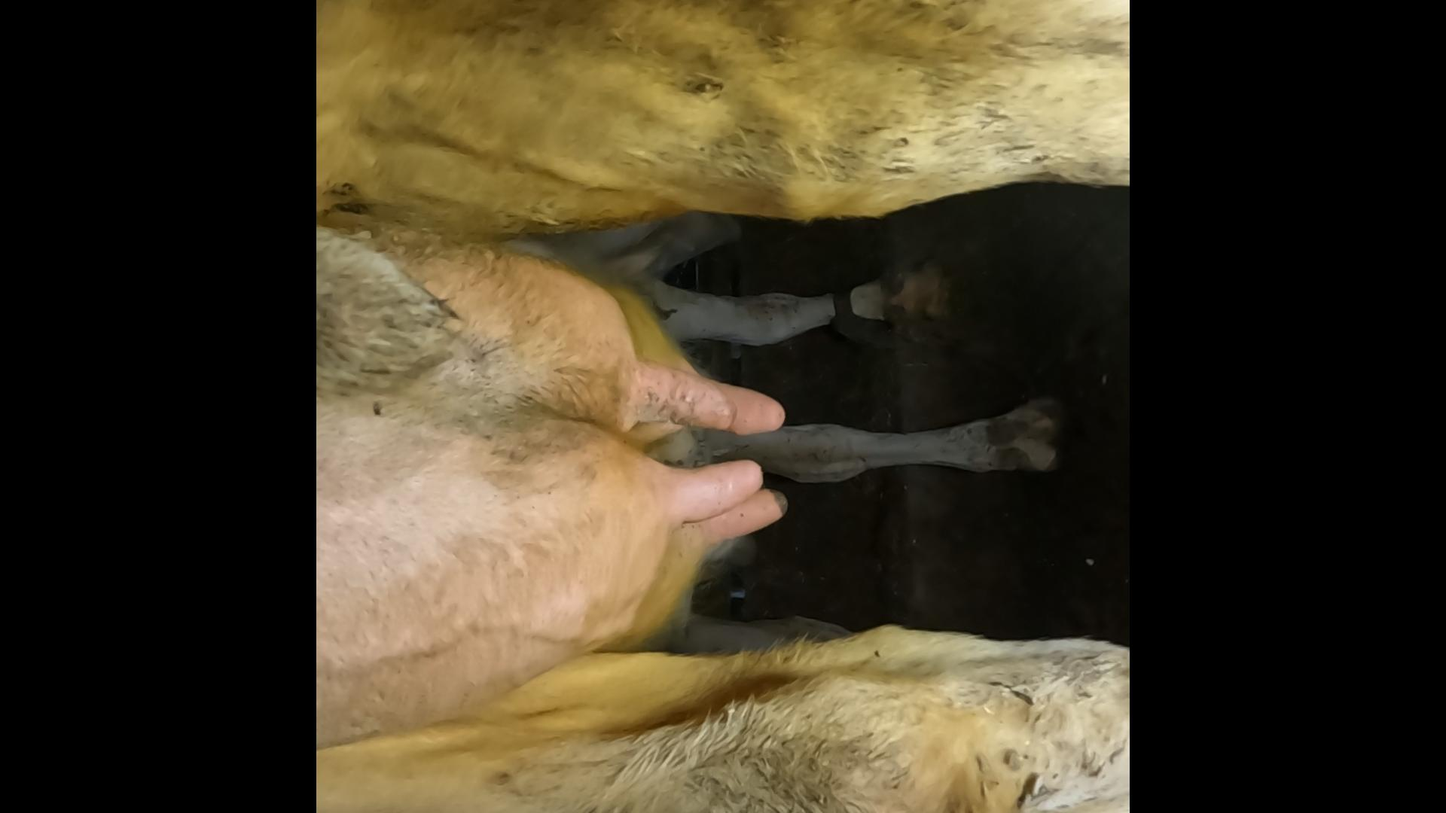Zitze: (606, 366, 752, 435), (648, 386, 792, 438), (682, 486, 794, 550), (636, 458, 770, 505)
